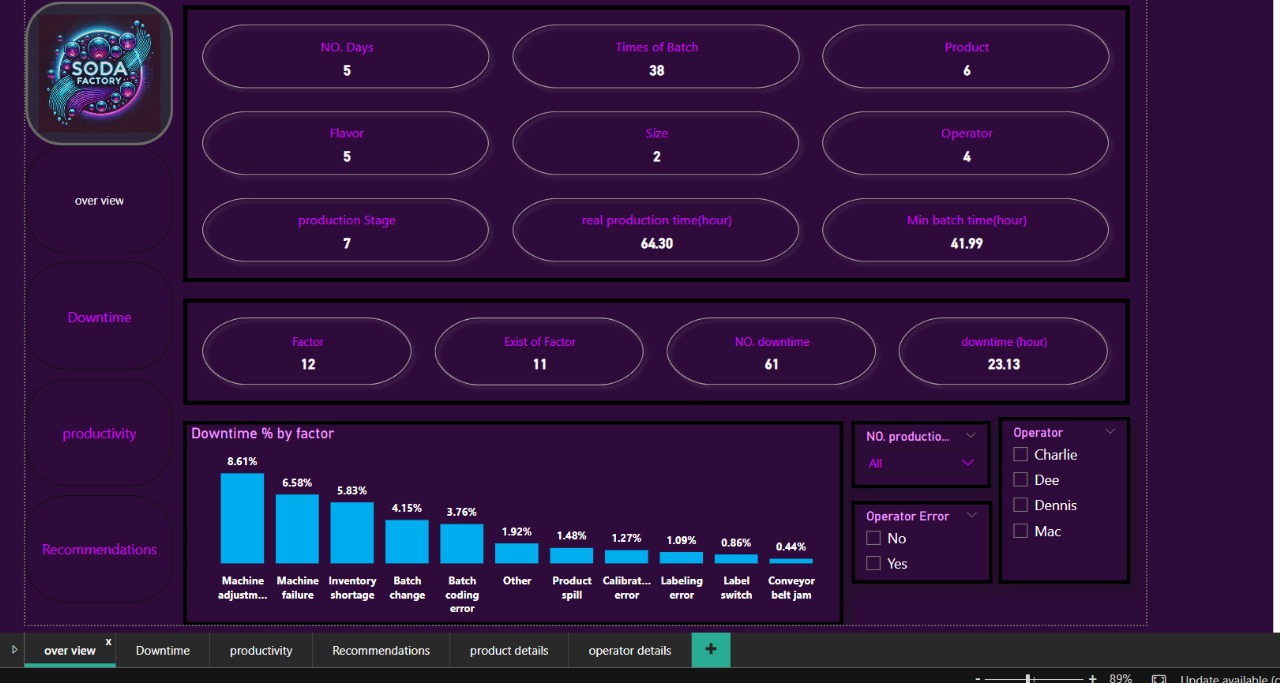

The page's visual inventory and layout, read from the dashboard file:
{"tool":"powerbi","page":{"name":"over view","canvas":[1280,720],"ordinal":0},"visuals":[{"type":"cardVisual","fields":{"Data":["Line productivity.Date","Line productivity.Batch","Products.Product","Products.Flavor","Products.Size","Line productivity.Operator","Downtime factors.NO. productionStage ","A  Downtime factor analysis.avg real production time","A  Downtime factor analysis.avg Min batch time"]},"box":[180.4,12.4,1081,316],"z":0},{"type":"actionButton","box":[0,7.9,169.1,164.6],"z":1000},{"type":"pageNavigator","box":[0,172.4,169.1,525.2],"z":2000},{"type":"clusteredColumnChart","fields":{"Y":["A  Downtime factor analysis.\"Batch change Proportion\""],"Category":["Downtime factors.Description"]},"box":[180.4,486.4,753.8,233.9],"z":3000},{"type":"slicer","fields":{"Values":["Downtime factors.Operator Error"]},"box":[942.9,578.4,160.5,94.5],"z":4000},{"type":"slicer","fields":{"Values":["Downtime factors.NO. productionStage "]},"box":[942.9,486.4,159.2,77.1],"z":5000},{"type":"cardVisual","fields":{"Data":["Downtime factors.Factor","Line downtime.Factor","Line downtime. Batch","A  Downtime factor analysis.Avg of downtime"]},"box":[180.4,347.1,1081,121.9],"z":6000},{"type":"slicer","fields":{"Values":["Line productivity.Operator"]},"box":[1110.9,482.7,150.5,190.3],"z":7000}]}

Visuals, with their boxes on the page's 1280x720 design canvas (x1, y1, x2, y2). These are canvas units, not pixel positions in the 1280x683 screenshot, which may show the page scaled, cropped or inside an application window:
cardVisual - Line productivity.Date x Line productivity.Batch: box=[180, 12, 1261, 328]
actionButton: box=[0, 8, 169, 172]
pageNavigator: box=[0, 172, 169, 698]
clusteredColumnChart - A  Downtime factor analysis."Batch change Proportion" x Downtime factors.Description: box=[180, 486, 934, 720]
slicer - Downtime factors.Operator Error: box=[943, 578, 1103, 673]
slicer - Downtime factors.NO. productionStage : box=[943, 486, 1102, 564]
cardVisual - Downtime factors.Factor x Line downtime.Factor: box=[180, 347, 1261, 469]
slicer - Line productivity.Operator: box=[1111, 483, 1261, 673]
